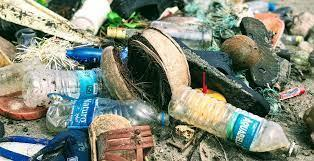bottle: (168, 82, 300, 161), (43, 92, 172, 140), (18, 67, 109, 112)
